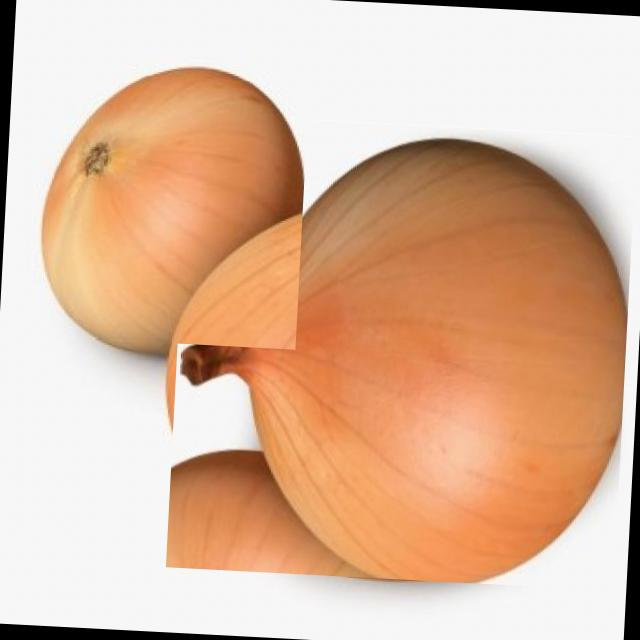Onion: (165, 115, 640, 590), (46, 72, 310, 350)
